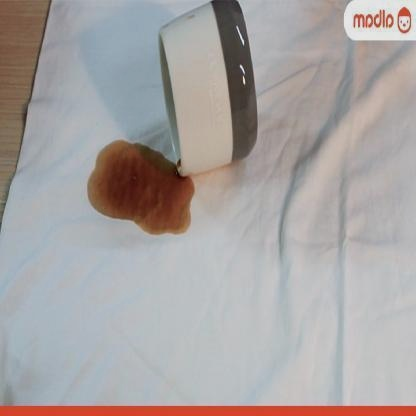coffee: (116, 154, 170, 215)
